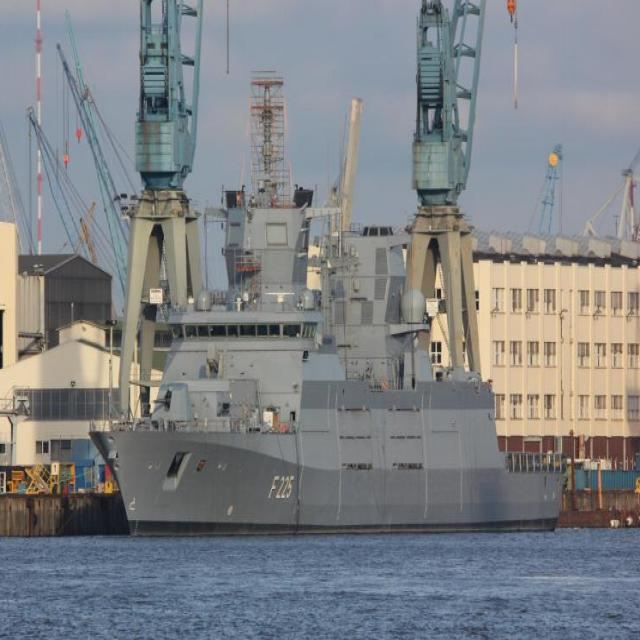Fragata: (87, 85, 569, 544)
